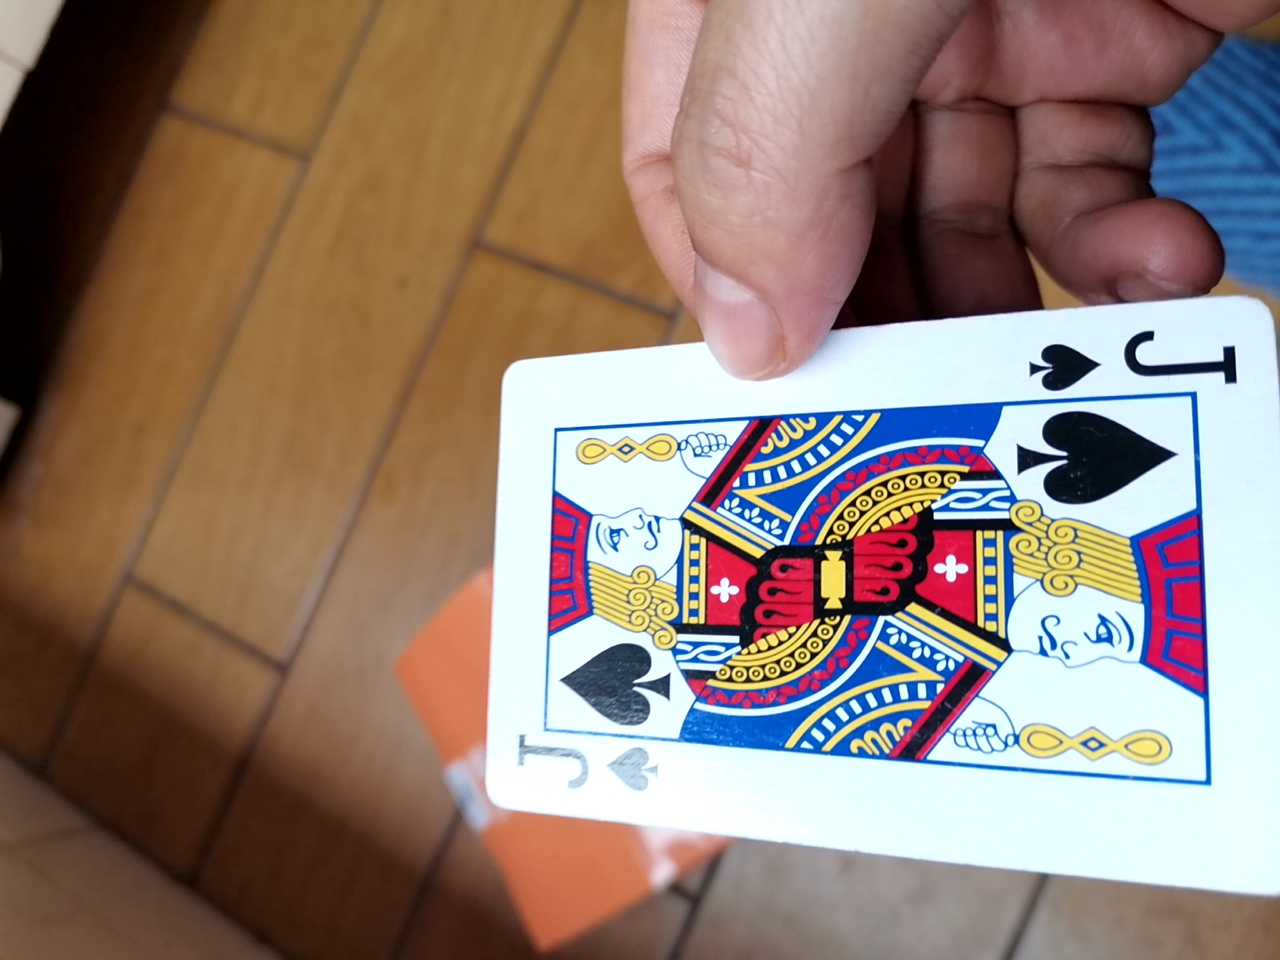ht j: (482, 296, 1275, 890)
